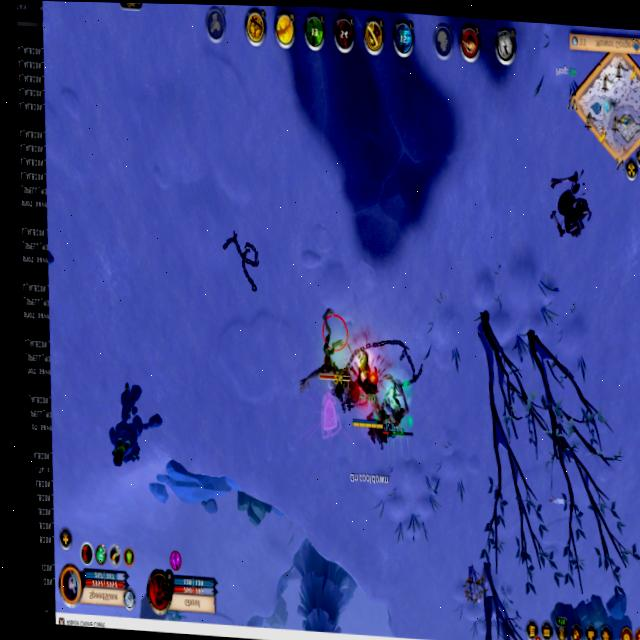hide: (459, 566, 489, 609)
ore: (91, 369, 176, 485), (300, 306, 354, 392), (379, 371, 421, 445)
red: (344, 358, 390, 434)
tree: (232, 488, 279, 533)
